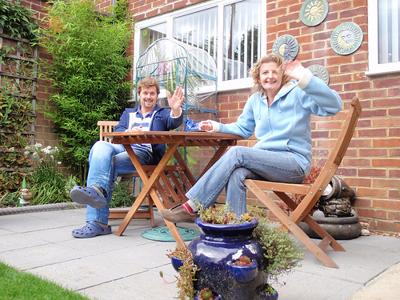person: (70, 78, 187, 239)
